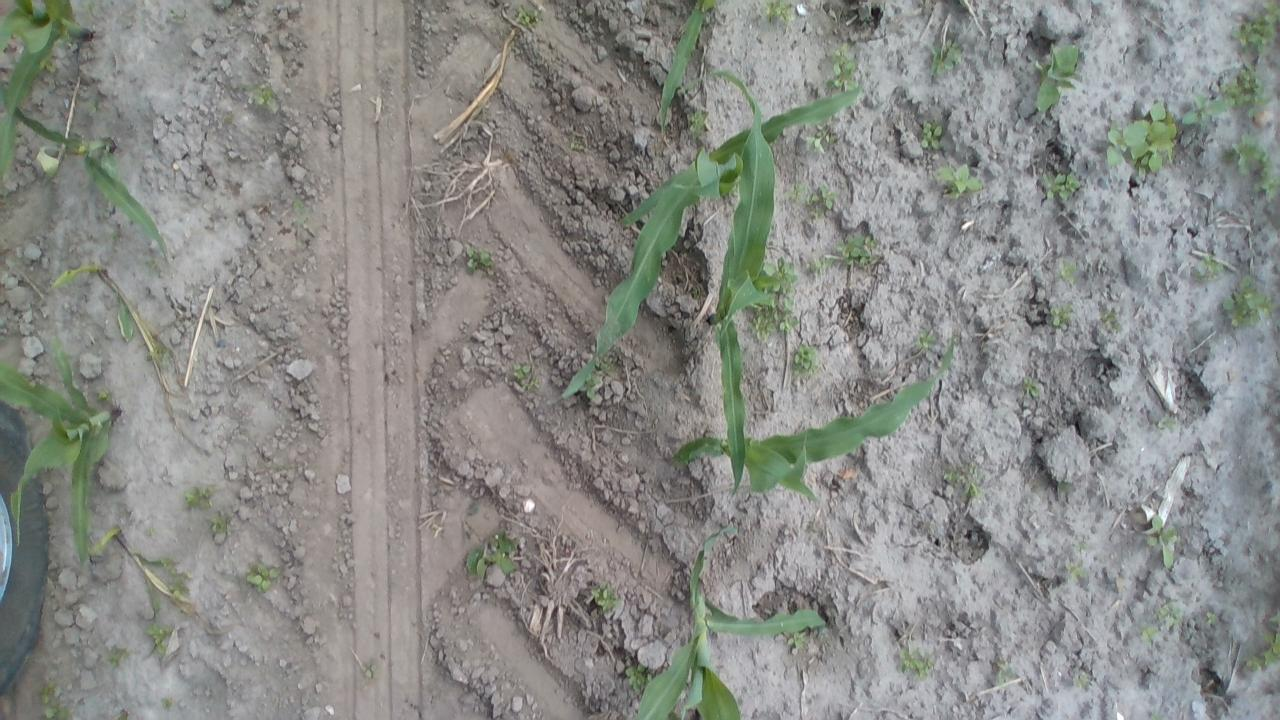Maize: (566, 89, 868, 403), (668, 335, 958, 501), (682, 71, 778, 503), (627, 527, 829, 720), (0, 88, 172, 259), (0, 336, 117, 566), (0, 0, 93, 212), (661, 0, 721, 134)
Weeds: (1124, 99, 1180, 182), (746, 256, 798, 342), (1228, 130, 1279, 202), (1035, 43, 1080, 112), (1224, 275, 1280, 329), (1218, 64, 1270, 120), (1232, 0, 1280, 59), (466, 536, 518, 580), (824, 41, 859, 93), (1146, 514, 1178, 569), (938, 165, 984, 199), (576, 358, 612, 398), (1185, 92, 1228, 124), (836, 234, 879, 266), (899, 646, 936, 678), (1043, 172, 1083, 201), (806, 184, 838, 220), (930, 40, 961, 77), (791, 342, 820, 377), (246, 562, 278, 593), (1156, 597, 1186, 629), (592, 581, 622, 613), (148, 621, 174, 656), (510, 360, 540, 390), (963, 461, 986, 500), (761, 0, 795, 25), (626, 664, 652, 696), (1194, 255, 1224, 281), (1260, 628, 1280, 666), (804, 250, 833, 276), (248, 84, 278, 109), (42, 696, 73, 720), (464, 246, 495, 270), (1106, 120, 1122, 166), (805, 124, 829, 154), (1048, 302, 1074, 328), (185, 487, 212, 509), (167, 574, 190, 599), (682, 110, 708, 132), (1138, 620, 1160, 646), (514, 6, 542, 26), (1100, 311, 1124, 334), (920, 122, 940, 148), (1058, 258, 1077, 284), (292, 197, 310, 224), (784, 182, 808, 202), (785, 626, 805, 650), (150, 344, 170, 367), (102, 649, 126, 668), (914, 330, 939, 348), (1071, 671, 1092, 692), (1066, 560, 1086, 580), (996, 661, 1012, 685), (942, 467, 962, 485), (210, 514, 228, 534), (1244, 651, 1260, 672), (40, 62, 59, 79), (145, 256, 161, 276), (168, 8, 186, 25), (1158, 415, 1178, 430), (1024, 376, 1038, 397), (84, 98, 100, 116), (158, 558, 176, 574), (98, 387, 114, 404), (364, 664, 380, 680), (80, 0, 100, 12), (1206, 611, 1218, 626), (1076, 541, 1090, 552), (160, 696, 172, 708), (569, 140, 581, 151), (1269, 611, 1280, 622), (1150, 713, 1164, 720), (145, 528, 156, 536), (48, 680, 57, 688)
